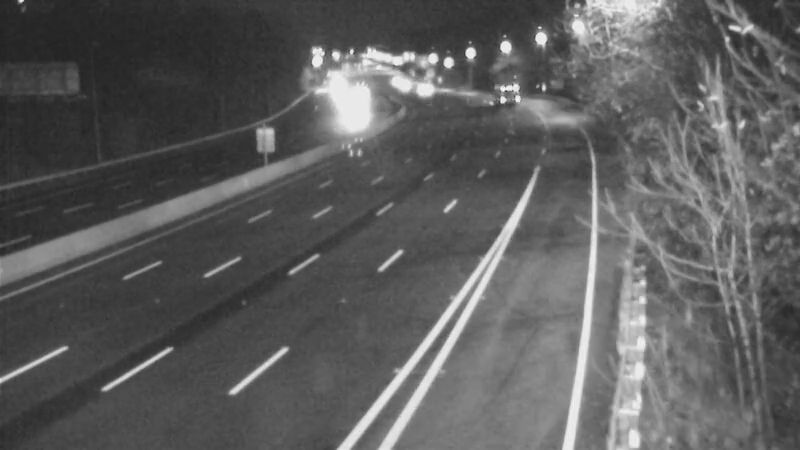vehicle: (379, 59, 429, 109), (472, 67, 522, 117), (399, 66, 449, 116), (323, 88, 373, 138)
